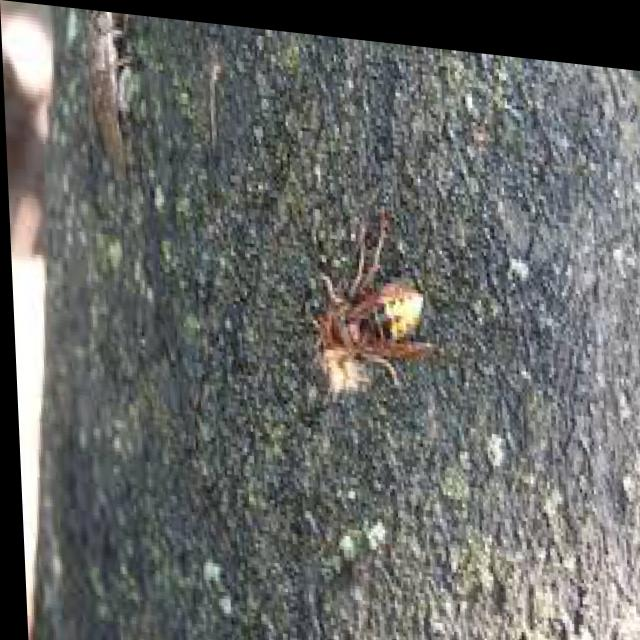Vespa Crabro: (294, 191, 469, 398)
